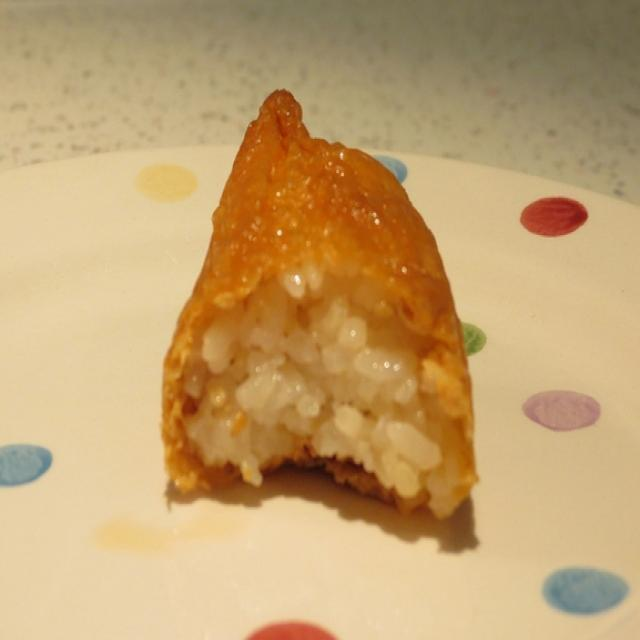寿司卷物: (18, 58, 611, 620)
